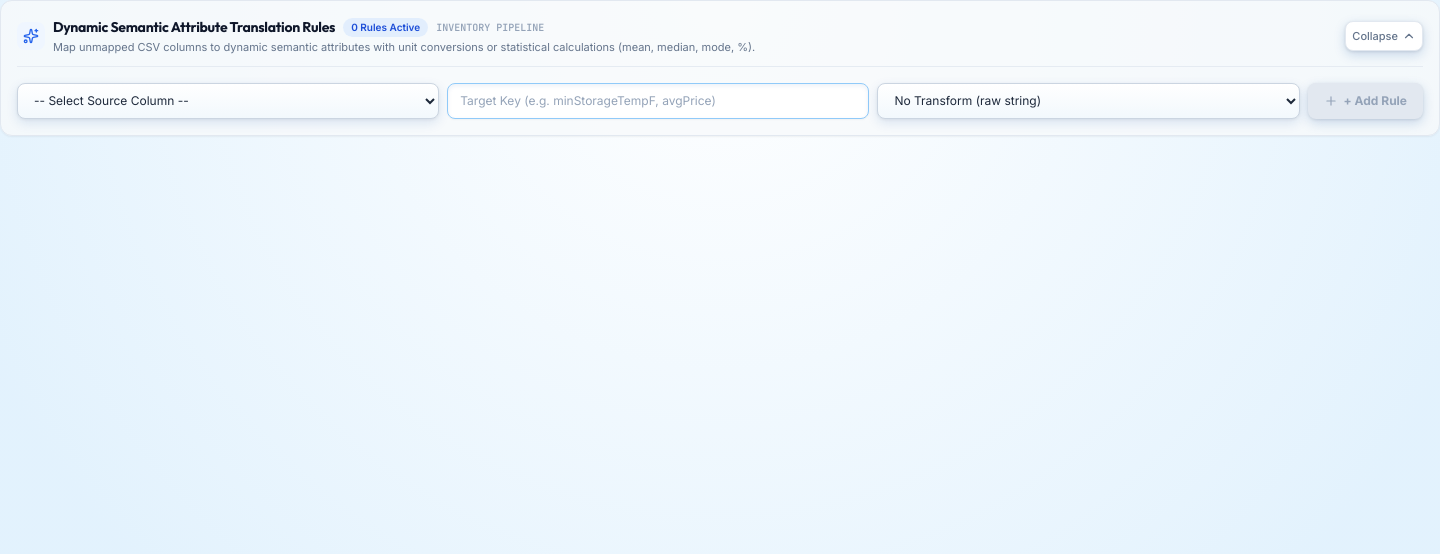
Test: SemanticRulesEditor Component › adds an inventory semantic rule with a calculation transform and displays live computed value
This screenshot has width=1440, height=554.
// Select source column 'CaseQty'
Select "CaseQty" in the dropdown named "source column": coordinates (228, 100) [17,82,439,118]
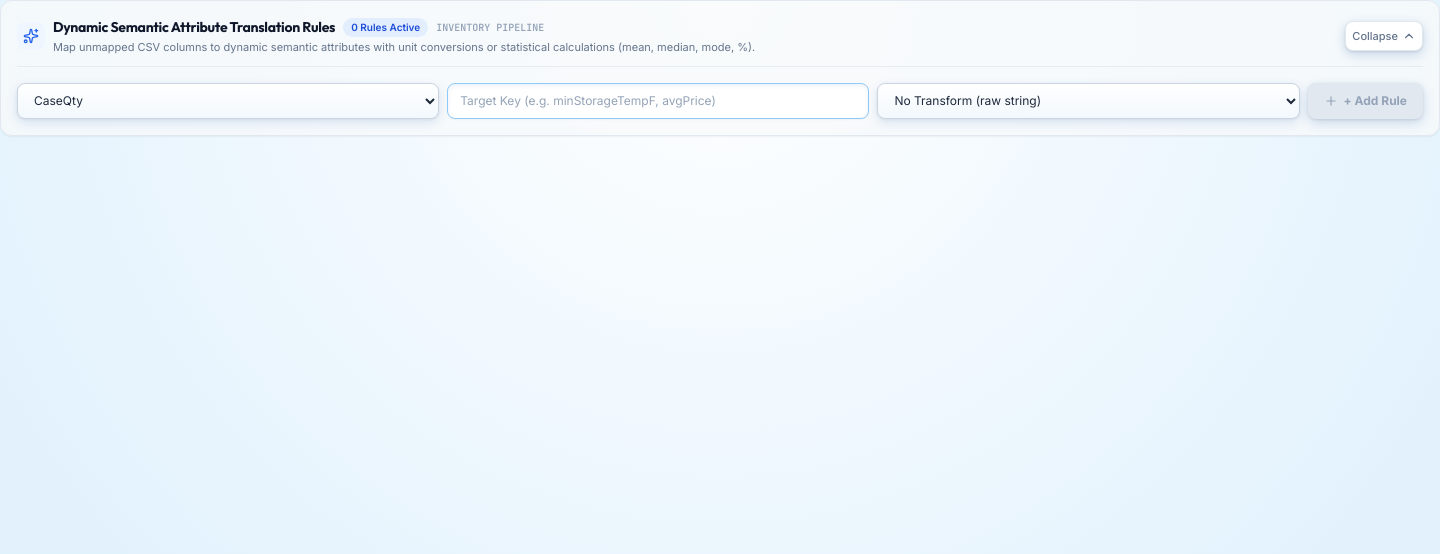
// Enter target key
In the field with placeholder "Target Key (e.g. minStorageTempF, avgPrice)": coordinates (658, 100) [447,82,869,118], type "avgCases"
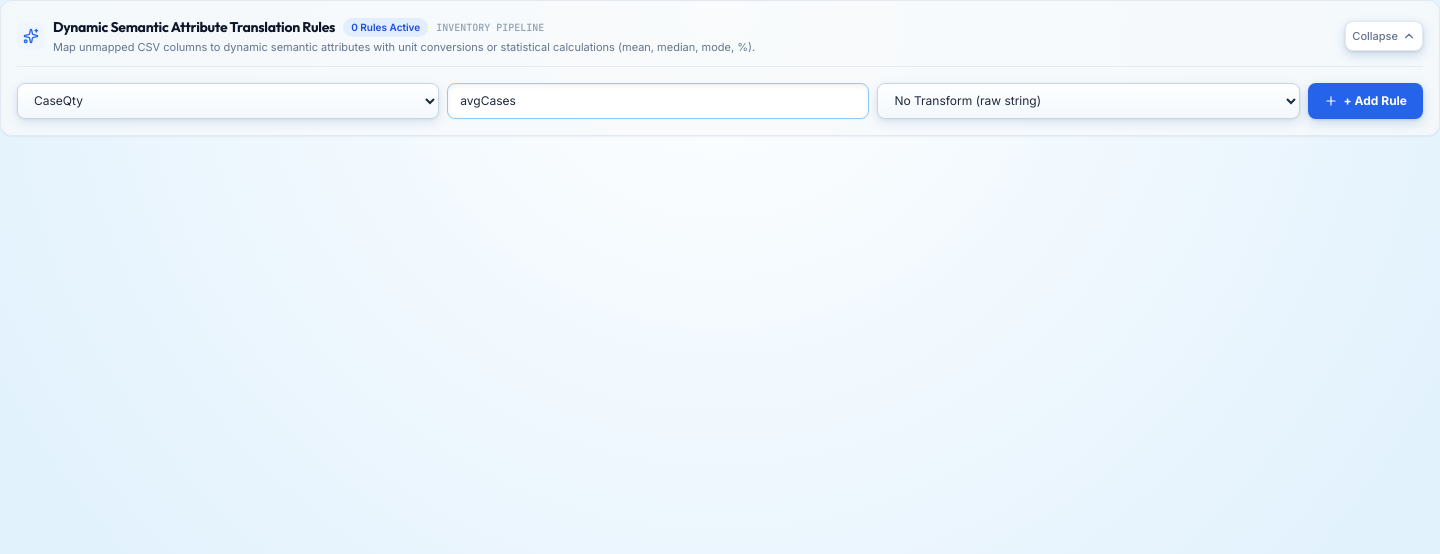
// Select 'mean' calculation transform
Select "Mean / Average" in the dropdown named "transformation or calculation": coordinates (1088, 100) [877,82,1300,118]
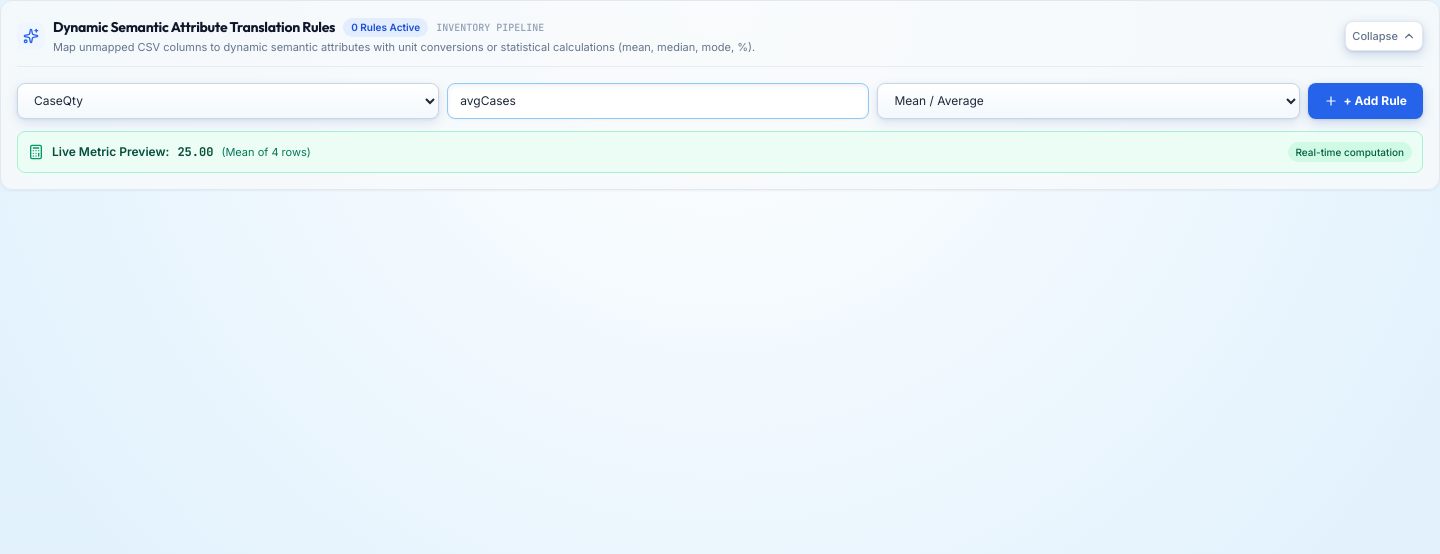
Check: the text "Live Metric Preview:" is shown, box [52,144,169,160]
Check: the text "25.00" is shown, box [177,144,213,160]
// Click Add Rule
Click the button "+ Add Rule": coordinates (1365, 100) [1308,82,1423,118]
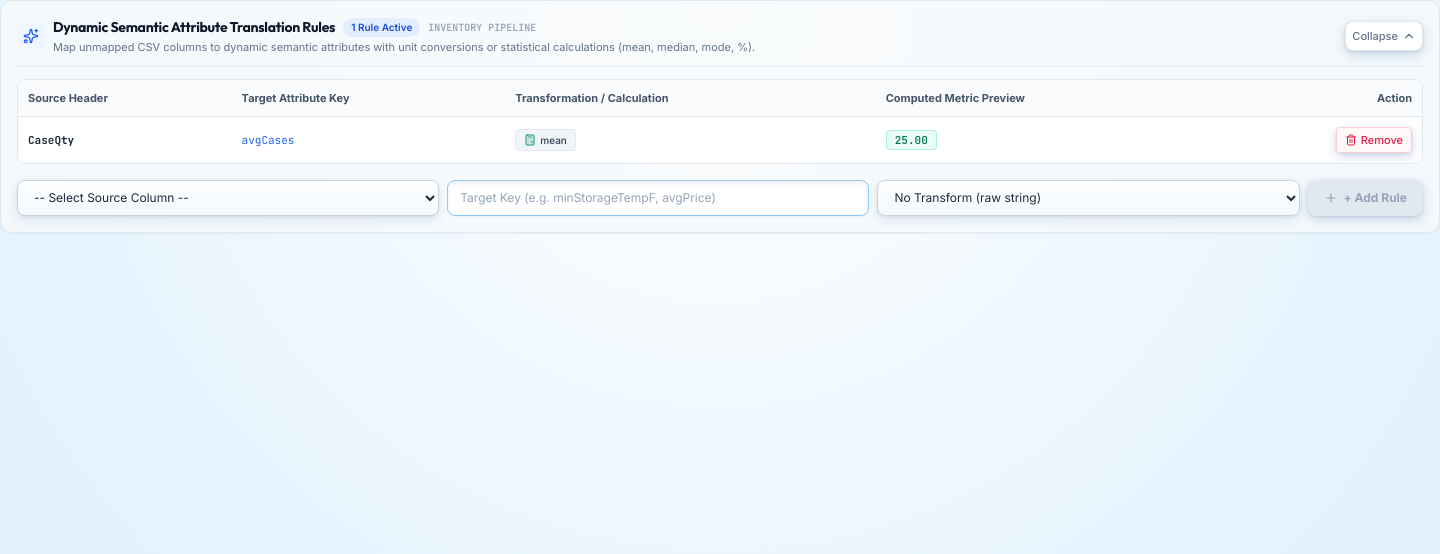
Check: the text "avgCases" is shown, box [232,116,505,162]
Check: the text "25.00" is shown, box [886,130,937,150]
